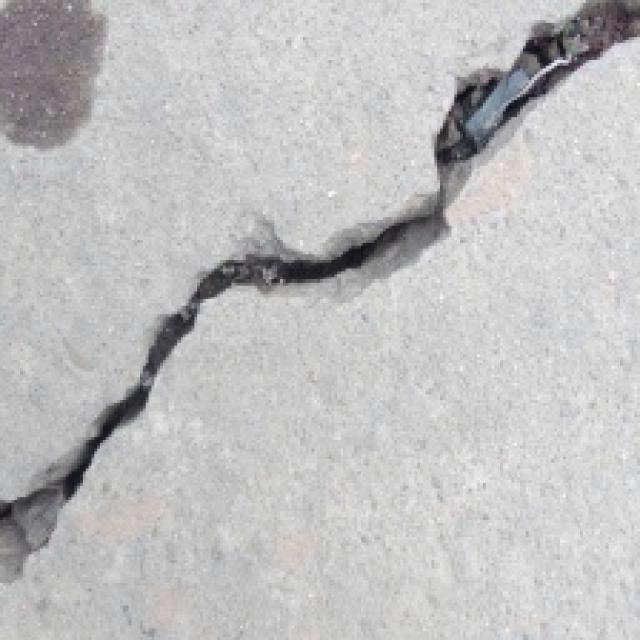SurfaceCrack: (2, 4, 632, 596)
